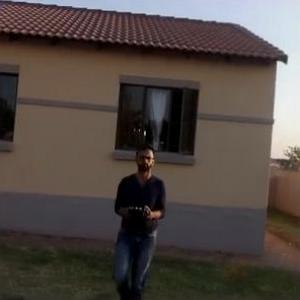follow: (106, 141, 170, 299)
